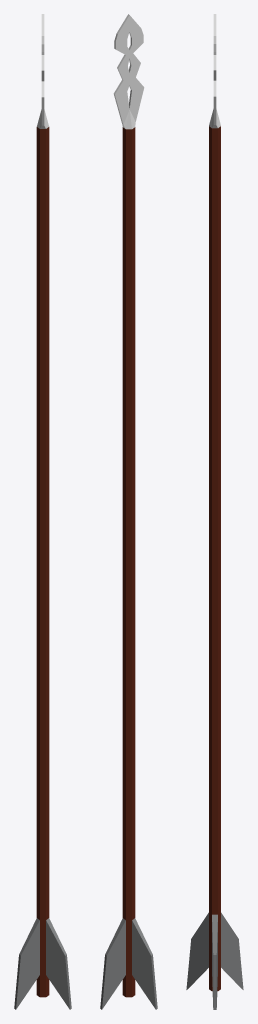
File: arrowSeams.fbx
3 views of the same model, side by side, from view 1: azimuth 90°, elevation 25°; view 2: azimuth 210°, elevation 25°; view 3: azimuth 270°, elevation 25° (orthographic).
Parts seen in each view (by area): view 1: arrow; view 2: arrow; view 3: arrow.
Part boxes in pixels (<box>): arrow: <box>14,14,71,1009</box>; arrow: <box>100,14,157,1009</box>; arrow: <box>186,14,243,1009</box>.
Bounding box in the file's own units: 1.93 × 42.23 × 2.23.
